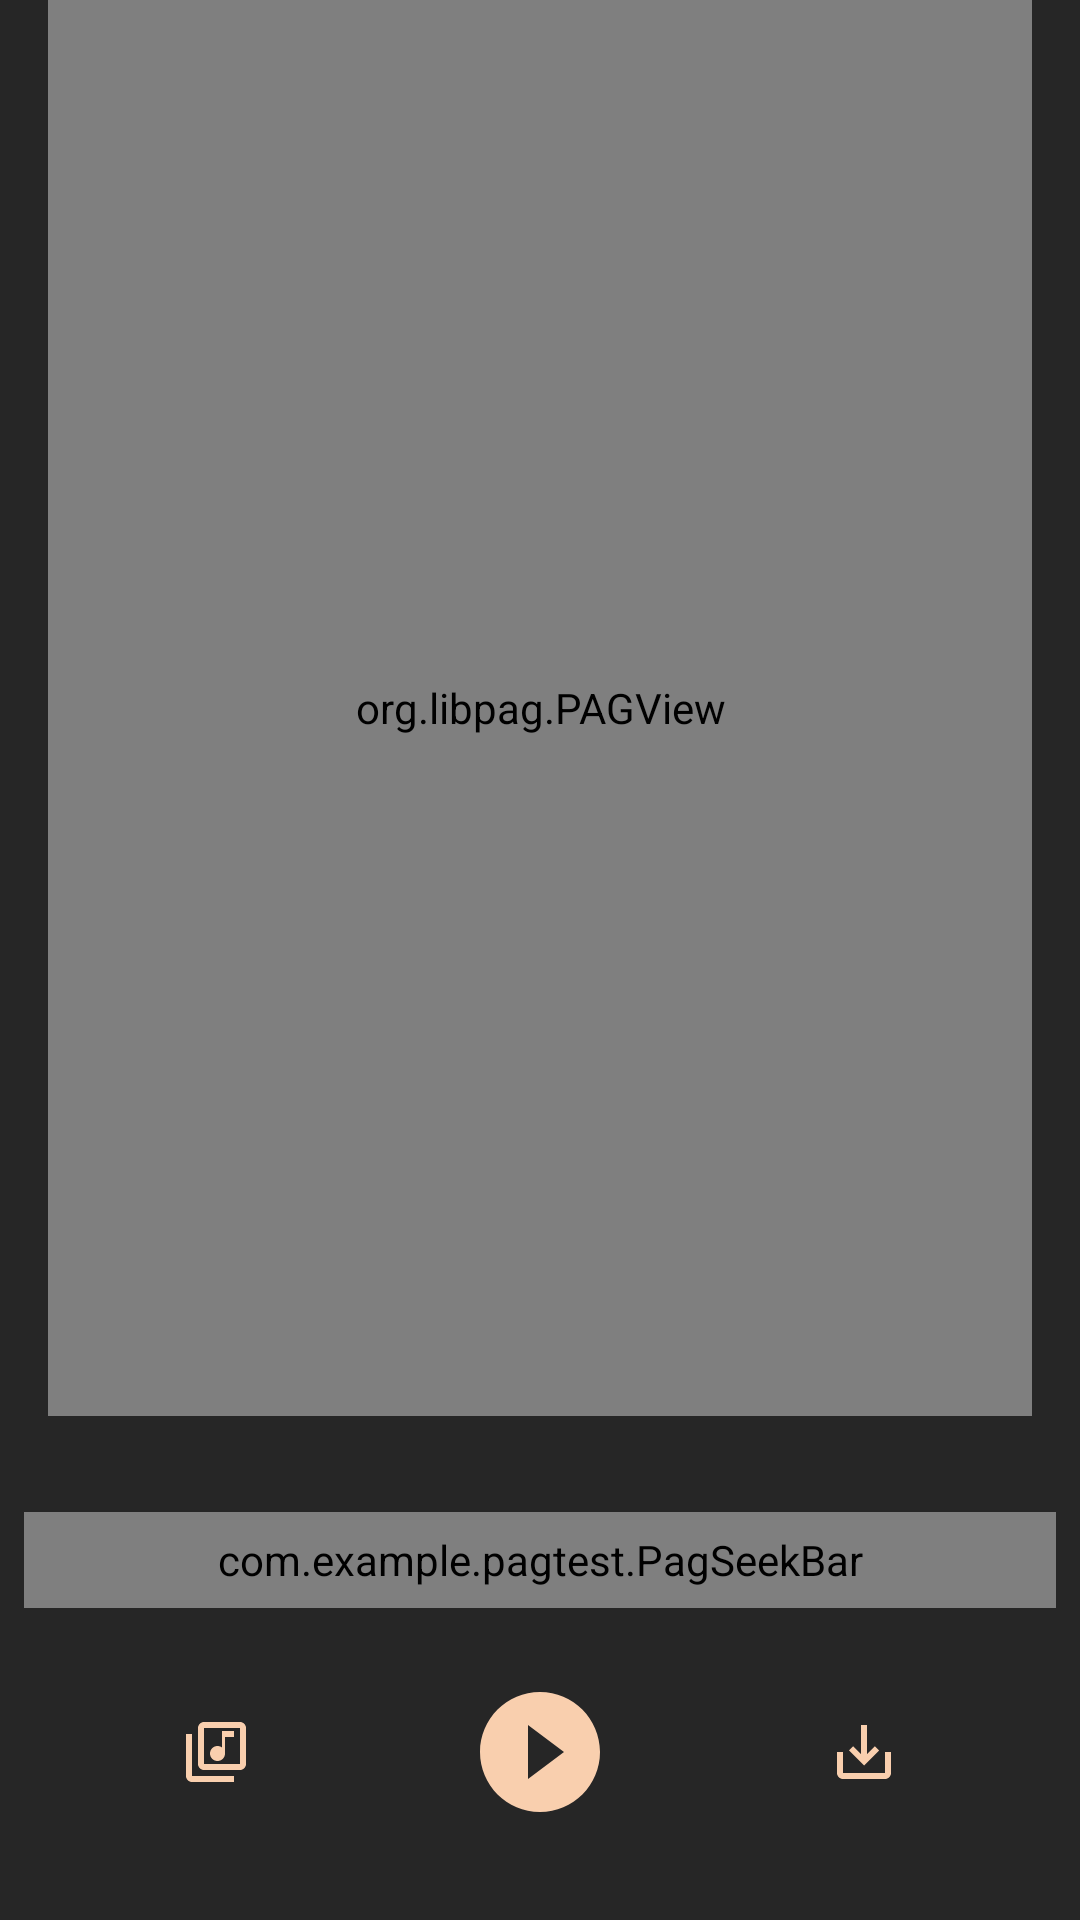

Icon bounding boxes for this 1080×1920 phone screenshot, format (x1, y1, x2, y2):
music: (186, 1722, 246, 1782)
play: (480, 1692, 600, 1812)
save: (837, 1725, 891, 1779)
